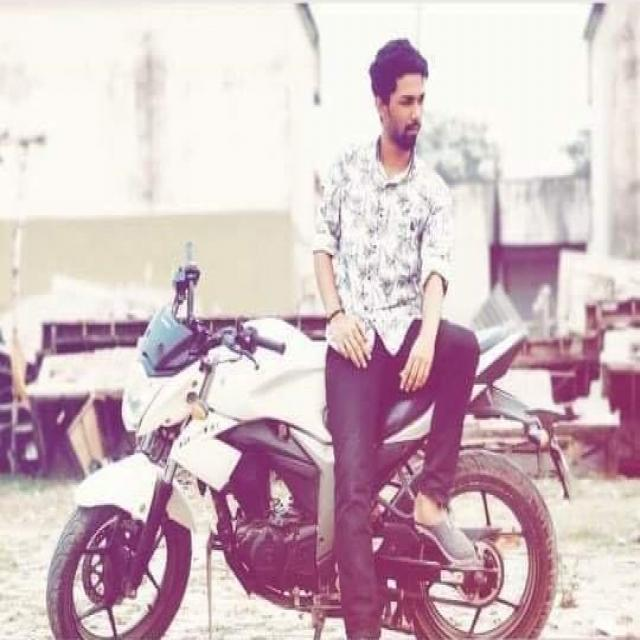Not Wearing Helmet: (283, 15, 466, 173)
